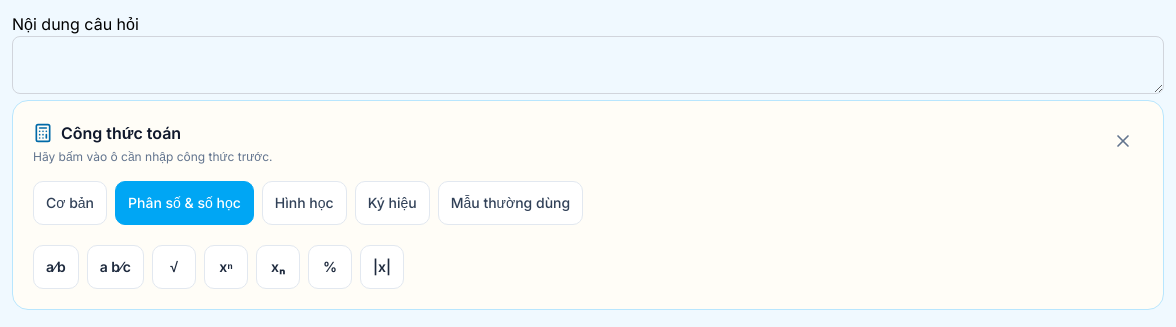
it: MathComposerPanel › shows five Vietnamese tool groups with touch-sized buttons
The width and height of the screenshot is (1176, 327).
Expected: the tab "Cơ bản" is shown, [33, 181, 107, 225]
Expected: the tab "Phân số & số học" is shown, [115, 181, 254, 225]
Click the tab "Hình học". click: (304, 203)
box: [262, 181, 347, 225]
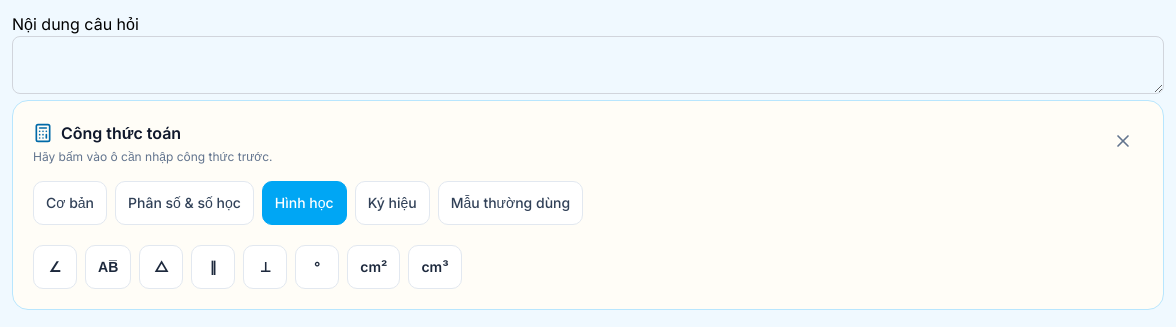
Now the button named "Góc" is shown, box [33, 245, 77, 289]
